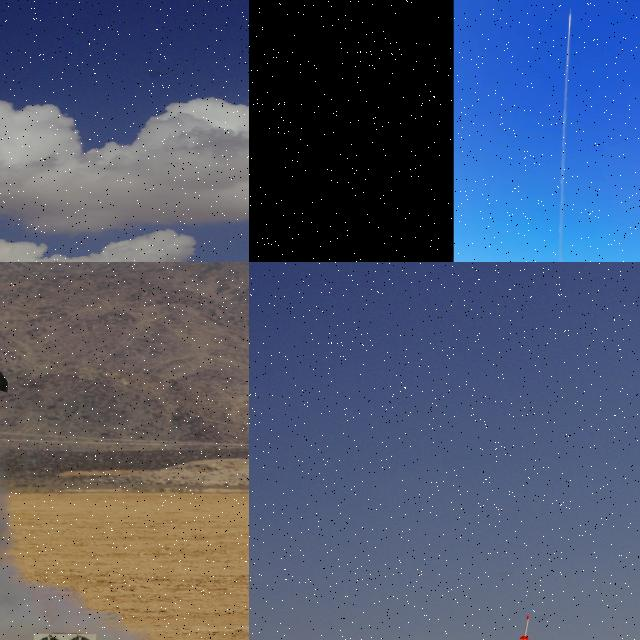Rocket: (519, 614, 530, 640), (569, 6, 572, 15)
